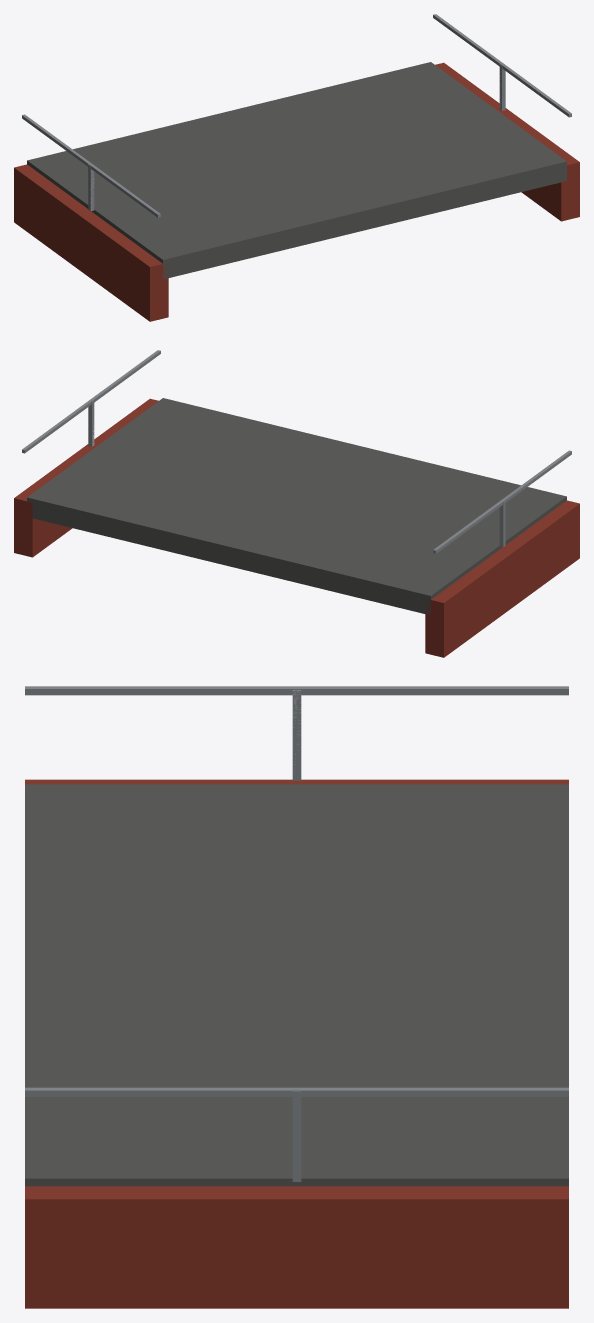
File: chasm-deck.glb
The picture shows the model from 3 angles, top to bottom: view 1: azimuth 30°, elevation 25°; view 2: azimuth 150°, elevation 25°; view 3: azimuth 270°, elevation 25°; orthographic projection. The views are drawn at different scales.
Parts seen in each view (by area): view 1: 00_#5a5a58, 01_#8a3a2c, 03_#8a8e92_noshadow, 02_#8a8e92_noshadow_r320; view 2: 00_#5a5a58, 01_#8a3a2c, 03_#8a8e92_noshadow, 02_#8a8e92_noshadow_r320; view 3: 00_#5a5a58, 01_#8a3a2c, 03_#8a8e92_noshadow, 02_#8a8e92_noshadow_r320.
Boxes of the visible parts, x1,y1,x2,y2 form: 00_#5a5a58: [27, 62, 566, 279]; 01_#8a3a2c: [14, 62, 579, 321]; 03_#8a8e92_noshadow: [22, 14, 571, 217]; 02_#8a8e92_noshadow_r320: [88, 64, 505, 211]; 00_#5a5a58: [27, 398, 566, 614]; 01_#8a3a2c: [14, 398, 579, 657]; 03_#8a8e92_noshadow: [22, 350, 571, 553]; 02_#8a8e92_noshadow_r320: [88, 400, 505, 547]; 00_#5a5a58: [25, 784, 568, 1186]; 01_#8a3a2c: [25, 779, 568, 1308]; 03_#8a8e92_noshadow: [25, 686, 568, 1096]; 02_#8a8e92_noshadow_r320: [292, 690, 301, 1181].
Size of the model in its own units: 11.5 by 2.69 by 6.3.
